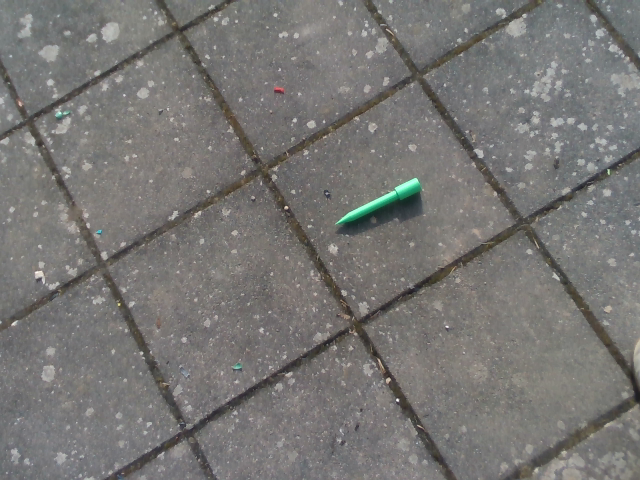Probe: (334, 172, 425, 230)
